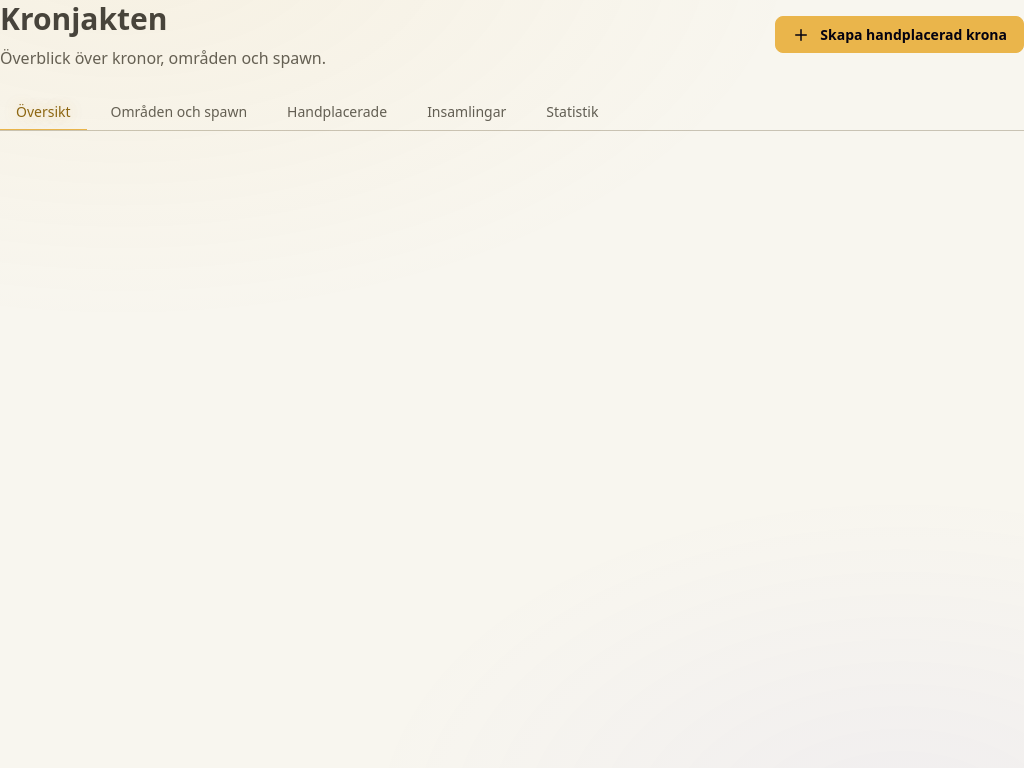
Test: Kronjakt point form — collectable redesign › cancelling the delete dialog deletes nothing
Click the tab "Handplacerade" at (337, 112), box [271,94,403,130]
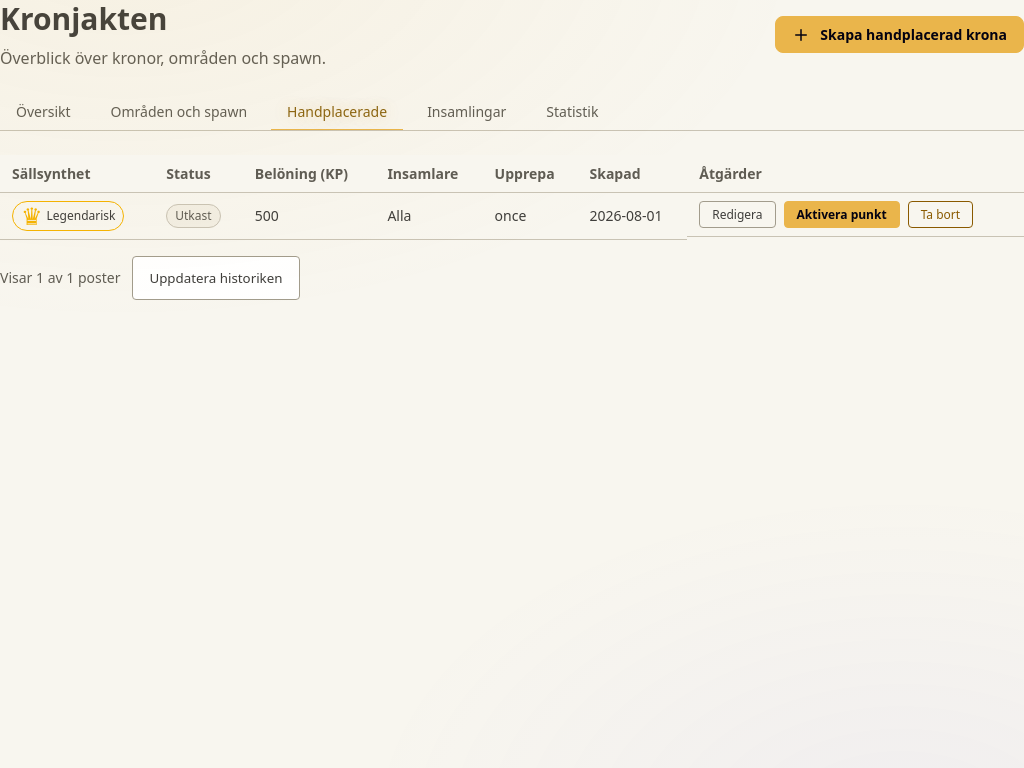
Click the button "Ta bort" at (940, 214), box [908,200,973,228]
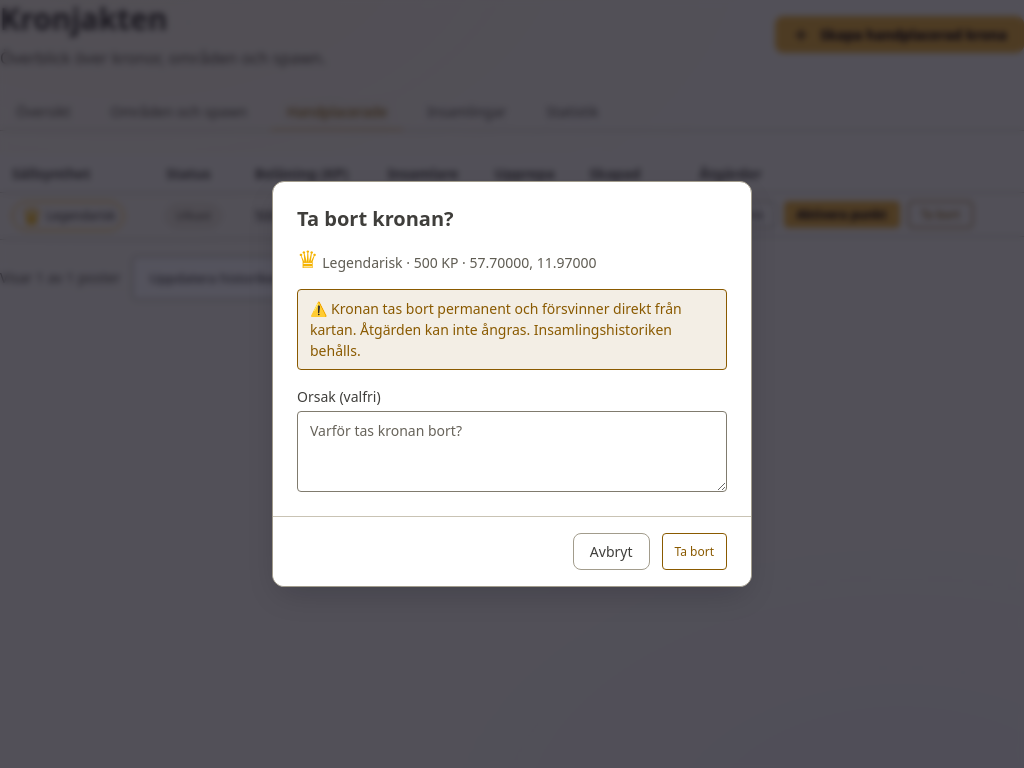
Click the button "Avbryt" at (611, 552), box [573,533,650,570]
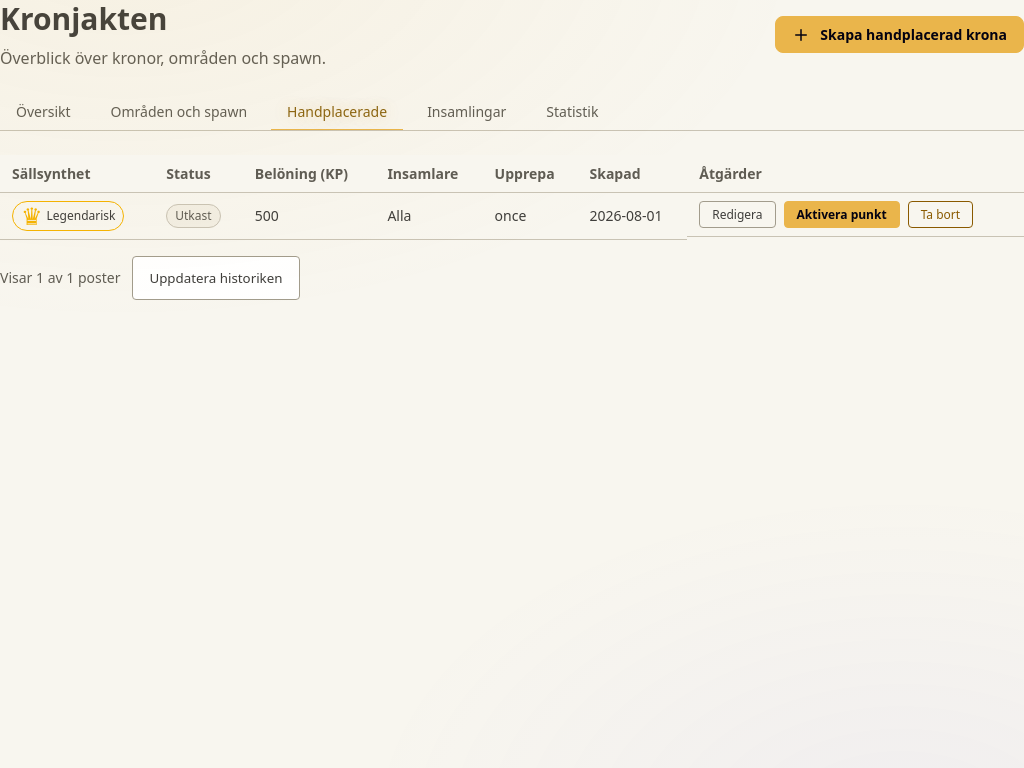
Expected: the dialog is gone
